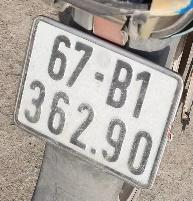0: (126, 126, 158, 177)
1: (130, 62, 152, 124)
2: (71, 98, 95, 150)
3: (19, 78, 46, 128)
6: (42, 33, 72, 85), (45, 91, 75, 141)
7: (67, 36, 93, 93)
9: (98, 113, 127, 170)
B: (104, 51, 134, 114)
